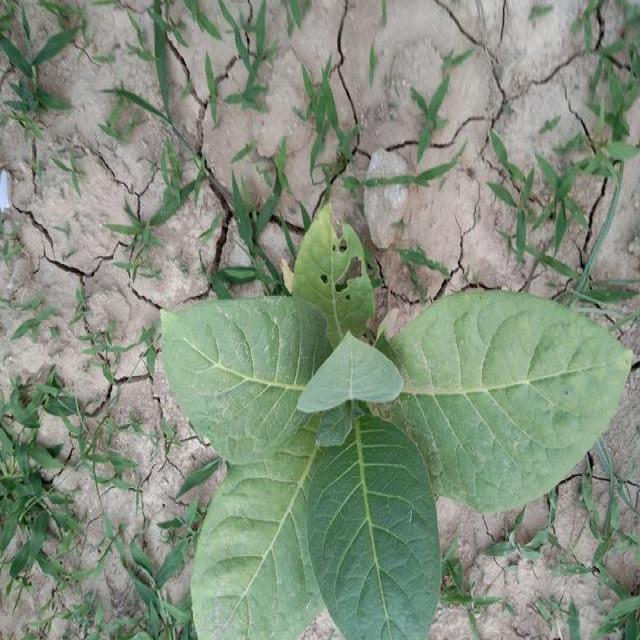crop: (156, 211, 632, 640)
